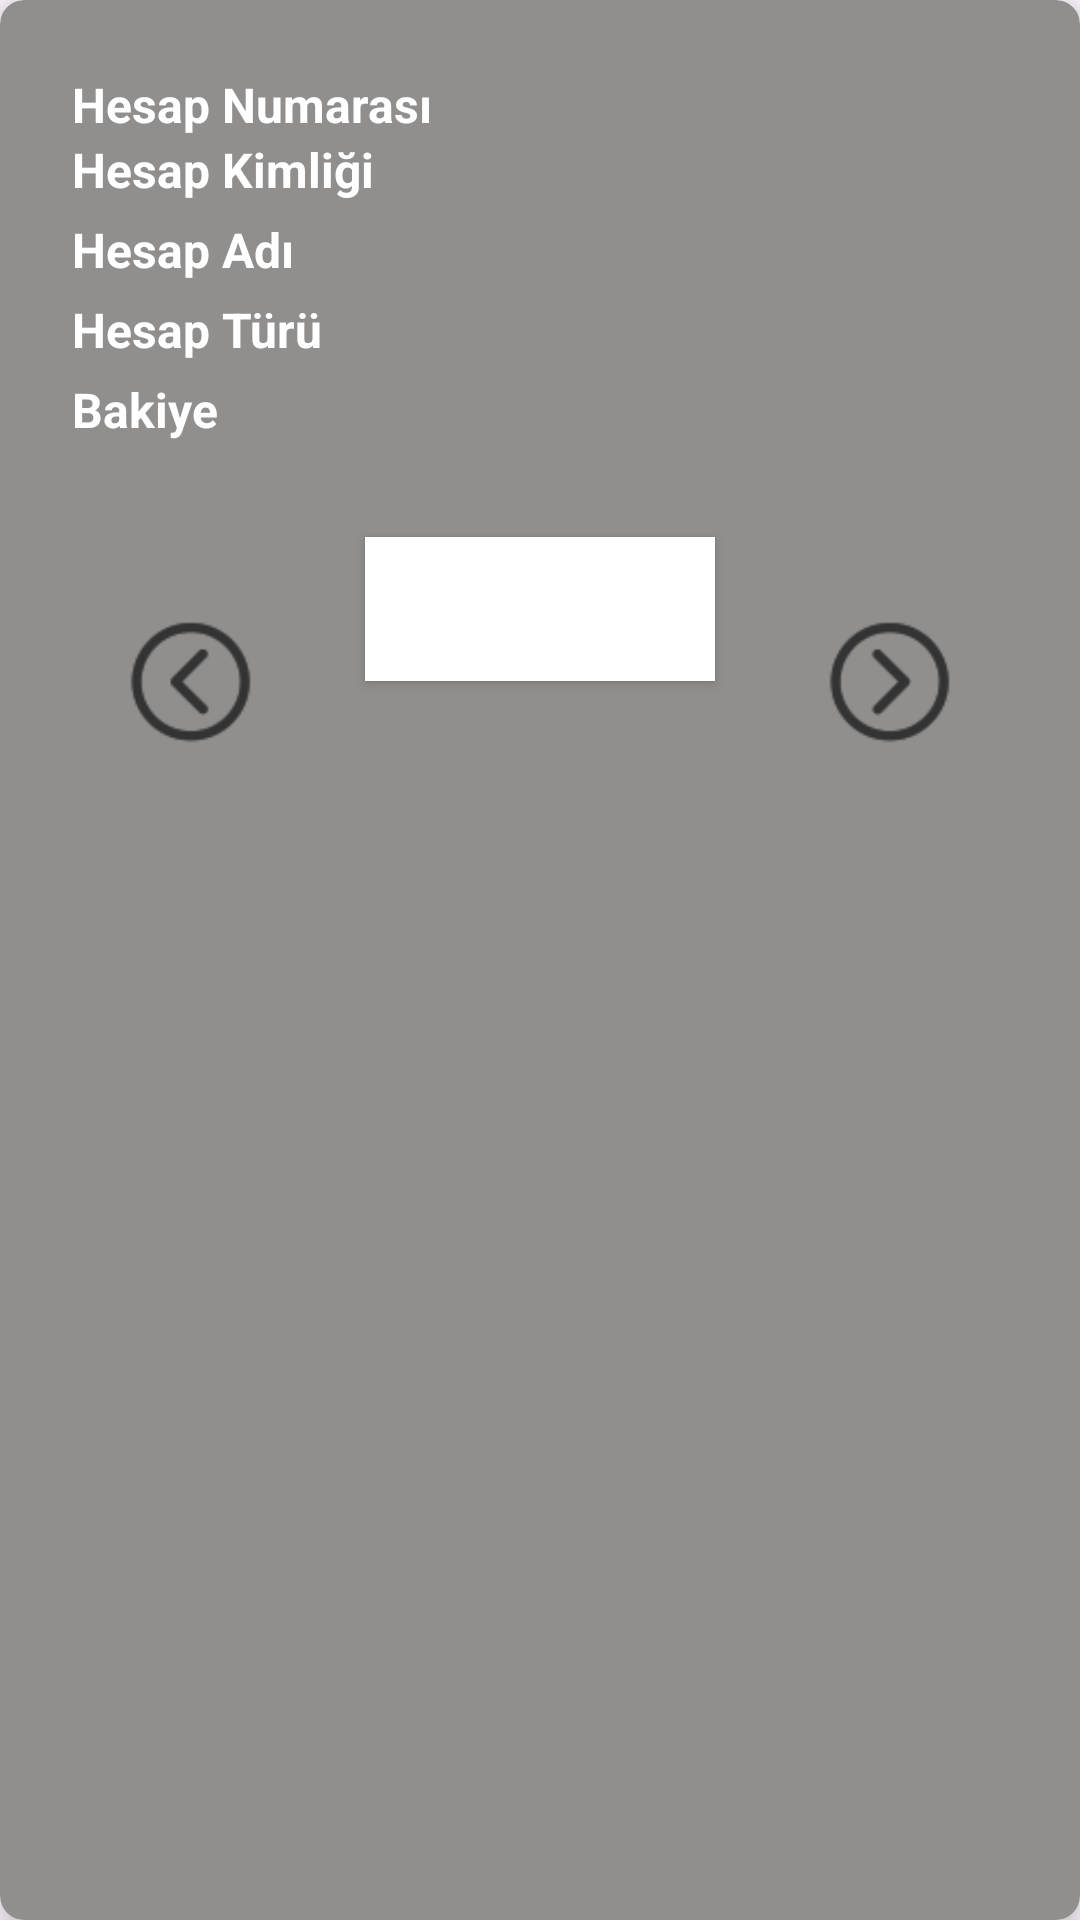

Icons on this 1080px×1920px Android screen, each with the point to tap as (x=x, y=y):
arrow left: (x=190, y=682)
arrow right: (x=889, y=682)
